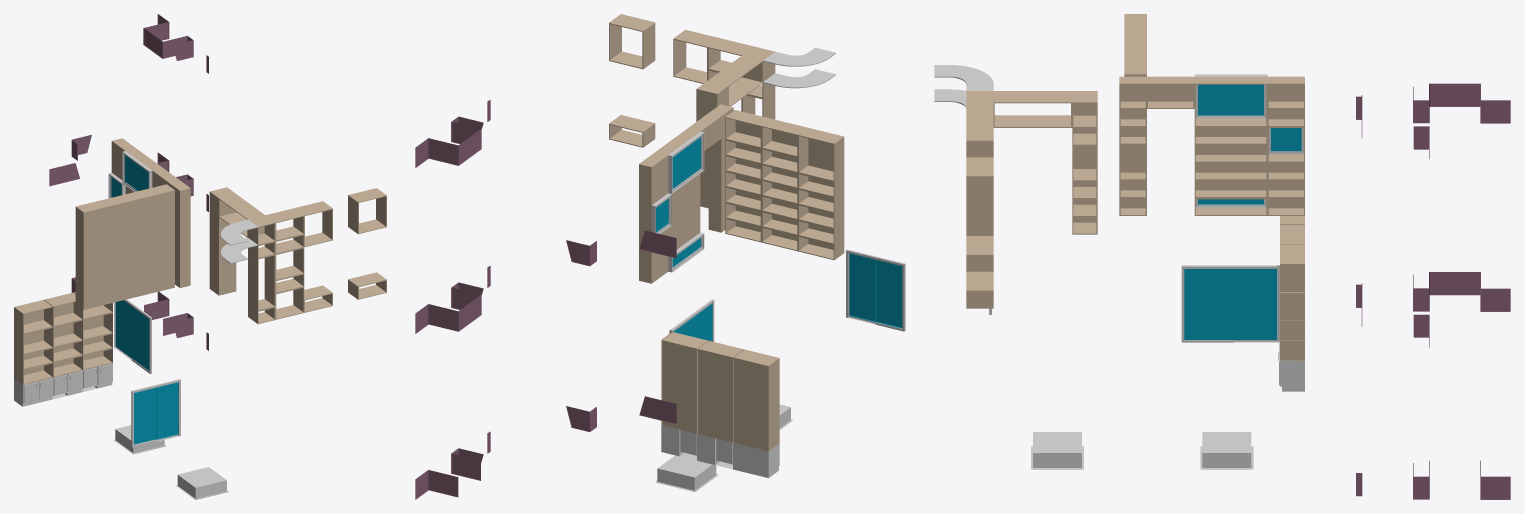
3 views of the same model, side by side, from view 1: azimuth 30°, elevation 25°; view 2: azimuth 150°, elevation 25°; view 3: azimuth 270°, elevation 25° (orthographic). The views are drawn at different scales.
Size of the model in its own units: 6.93 by 8.66 by 10.28.
